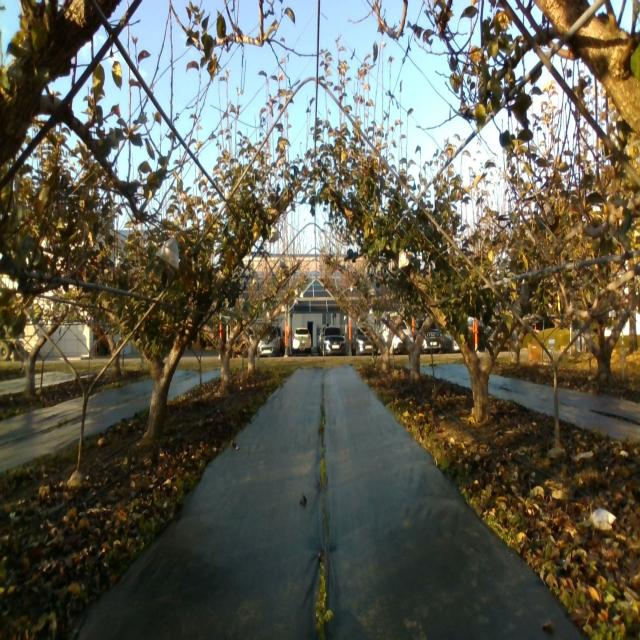pearbags: (156, 236, 180, 269), (398, 249, 408, 269)
